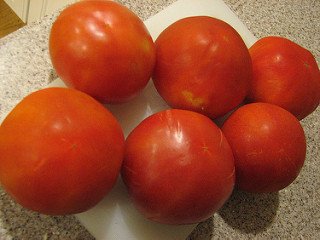tomato: (2, 89, 121, 217), (126, 110, 235, 215), (154, 16, 249, 107), (48, 4, 153, 85), (228, 103, 303, 187), (249, 34, 318, 108)
